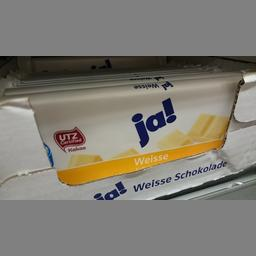chocolate: (2, 76, 248, 182)
